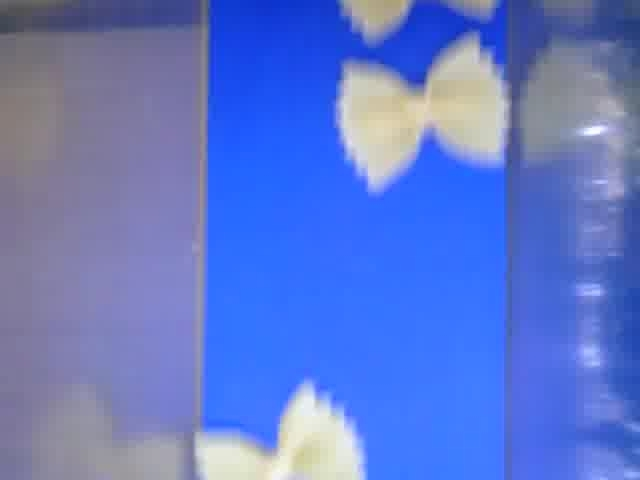farfalle: (339, 36, 510, 189), (192, 382, 367, 480)
